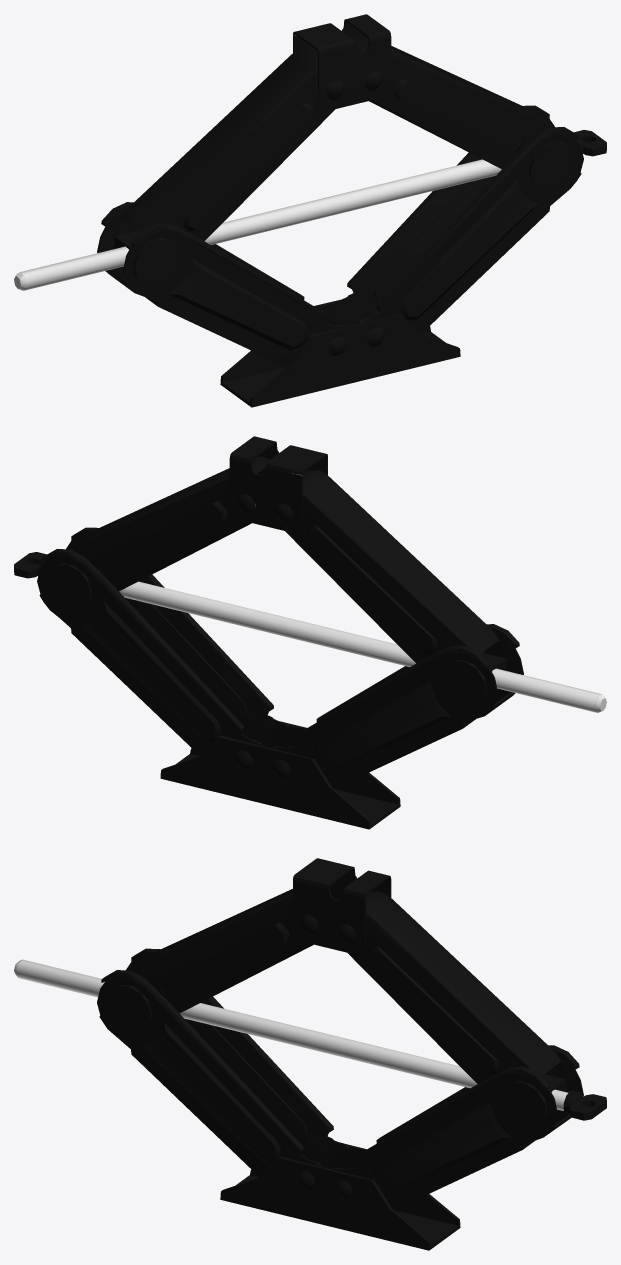
Rendered from For Sketchfab.obj.
3 renders of one model, top to bottom at view 1: azimuth 30°, elevation 25°; view 2: azimuth 150°, elevation 25°; view 3: azimuth 330°, elevation 25°, orthographic.
Visible parts, largest first — view 1: jack; view 2: jack; view 3: jack.
Boxes of the visible parts, <box> form: jack: <box>14,14,606,407</box>; jack: <box>14,436,606,829</box>; jack: <box>14,858,606,1250</box>.
Bounding box in the file's own units: 0.7549 × 0.4201 × 0.083.
